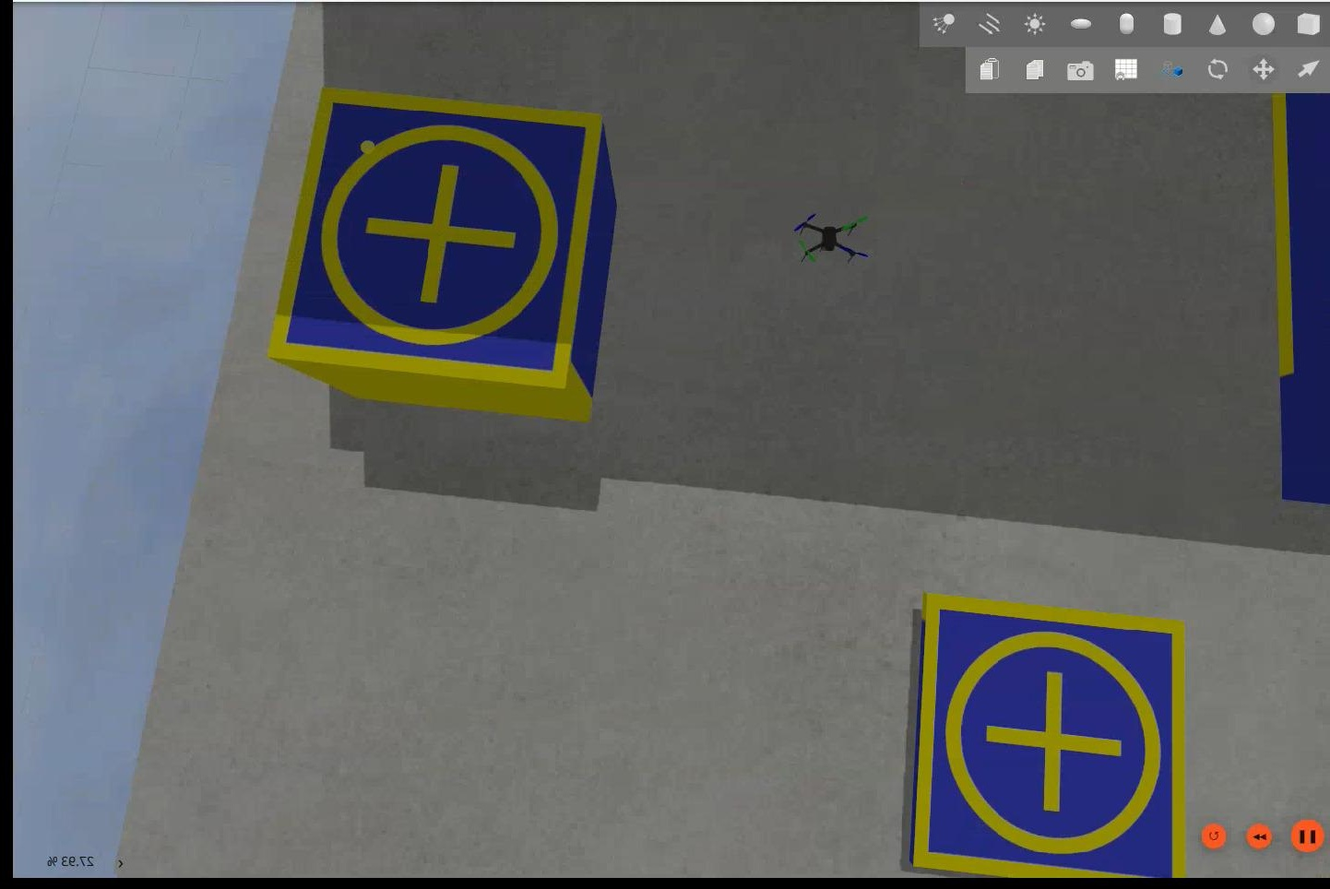small_base: (259, 89, 604, 389), (896, 590, 1191, 880)
